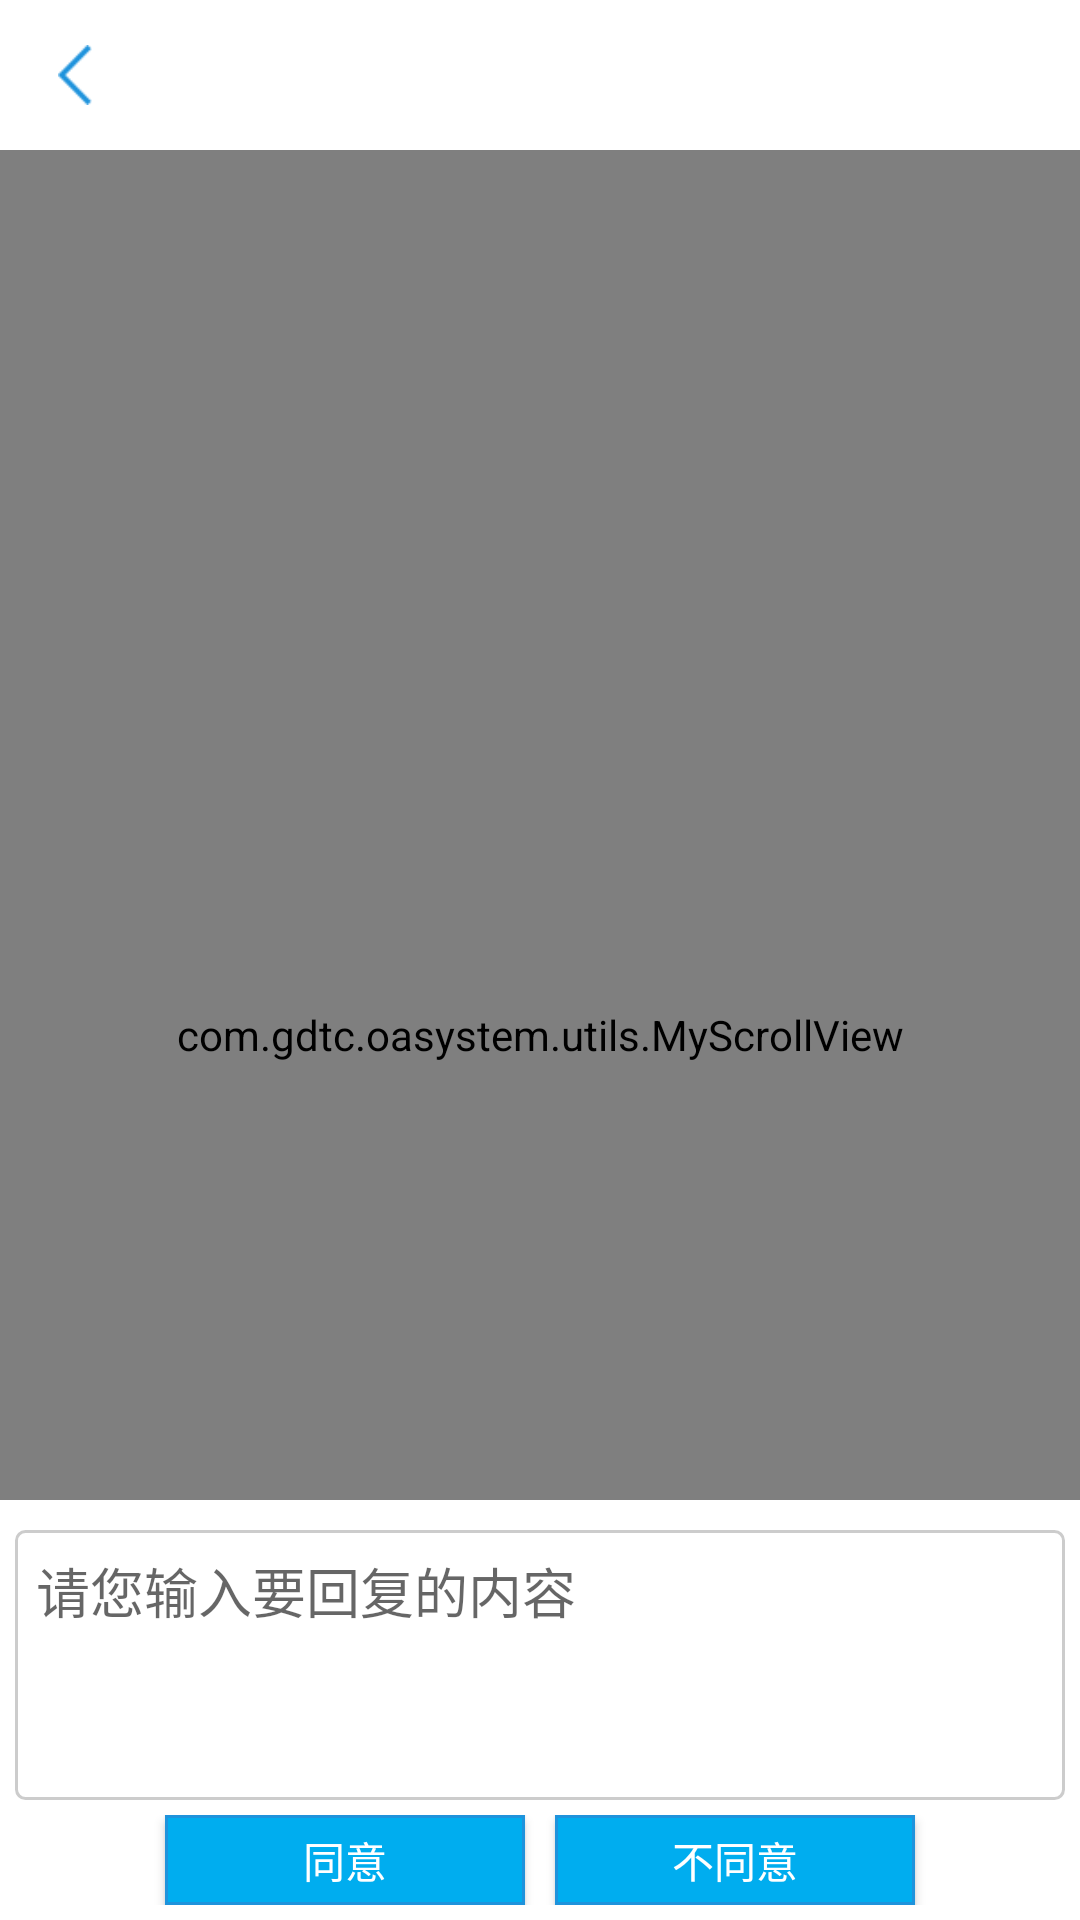

Point at icon controls on the screen. Image size 1080x1920, points as (x,y).
back: (75,75)
